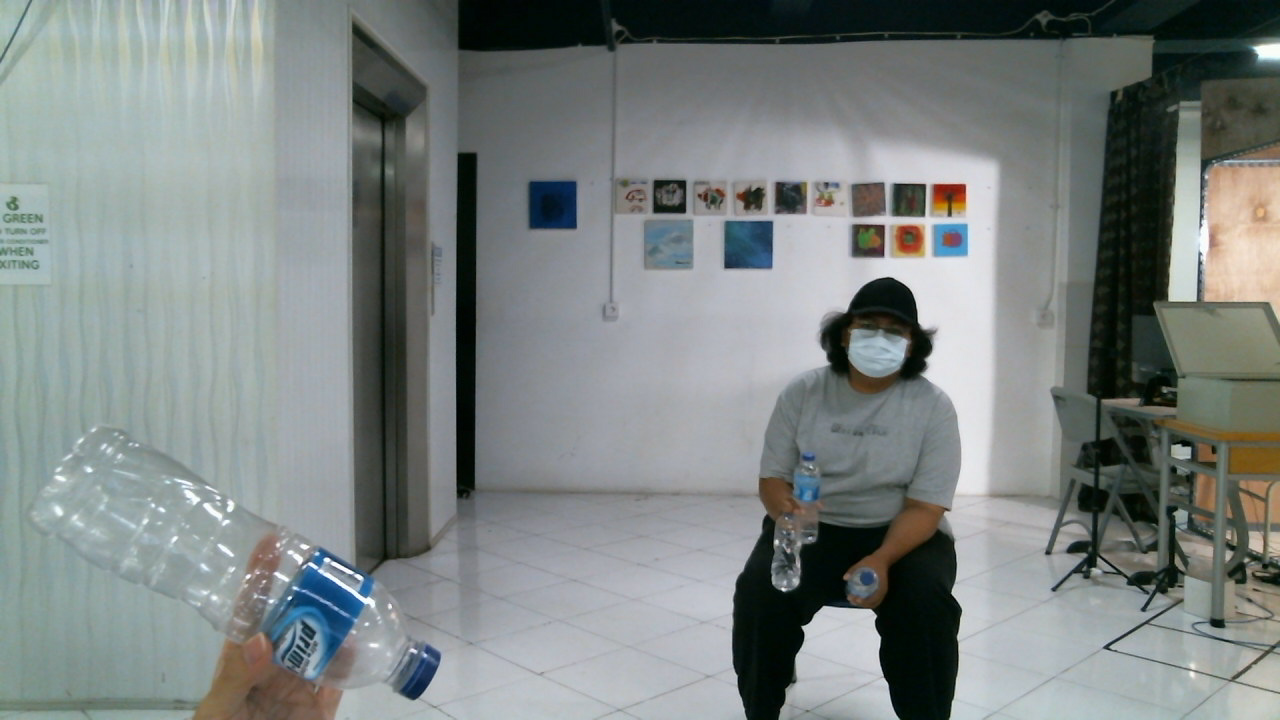Bottle: (26, 420, 440, 698), (793, 451, 821, 545)
